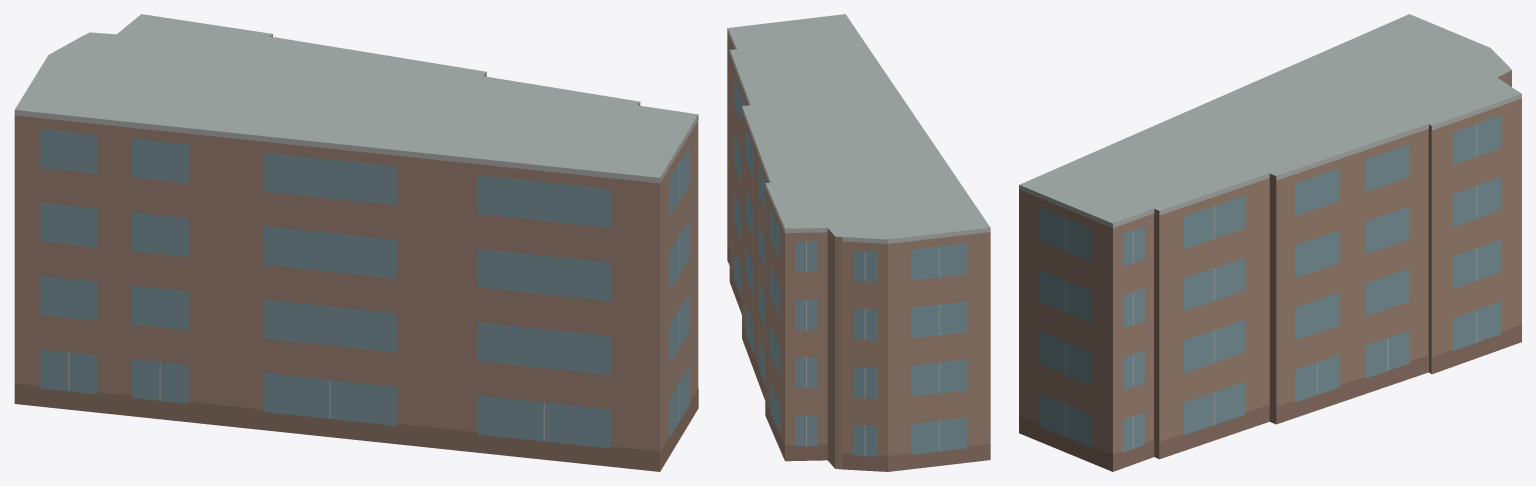
File: survey-upis-32912405.glb
3 views of the same model, side by side, from view 1: azimuth 30°, elevation 25°; view 2: azimuth 150°, elevation 25°; view 3: azimuth 270°, elevation 25° (orthographic). The views are drawn at different scales.
Visible parts, largest first — view 1: survey-upis-32912405.tmp; view 2: survey-upis-32912405.tmp; view 3: survey-upis-32912405.tmp.
Boxes of the visible parts, left/top/right/bottom form: survey-upis-32912405.tmp: left=14, top=14, right=698, bottom=471; survey-upis-32912405.tmp: left=727, top=14, right=990, bottom=471; survey-upis-32912405.tmp: left=1019, top=14, right=1521, bottom=471.
Bounding box in the file's own units: 23.4 × 12.93 × 23.72.
